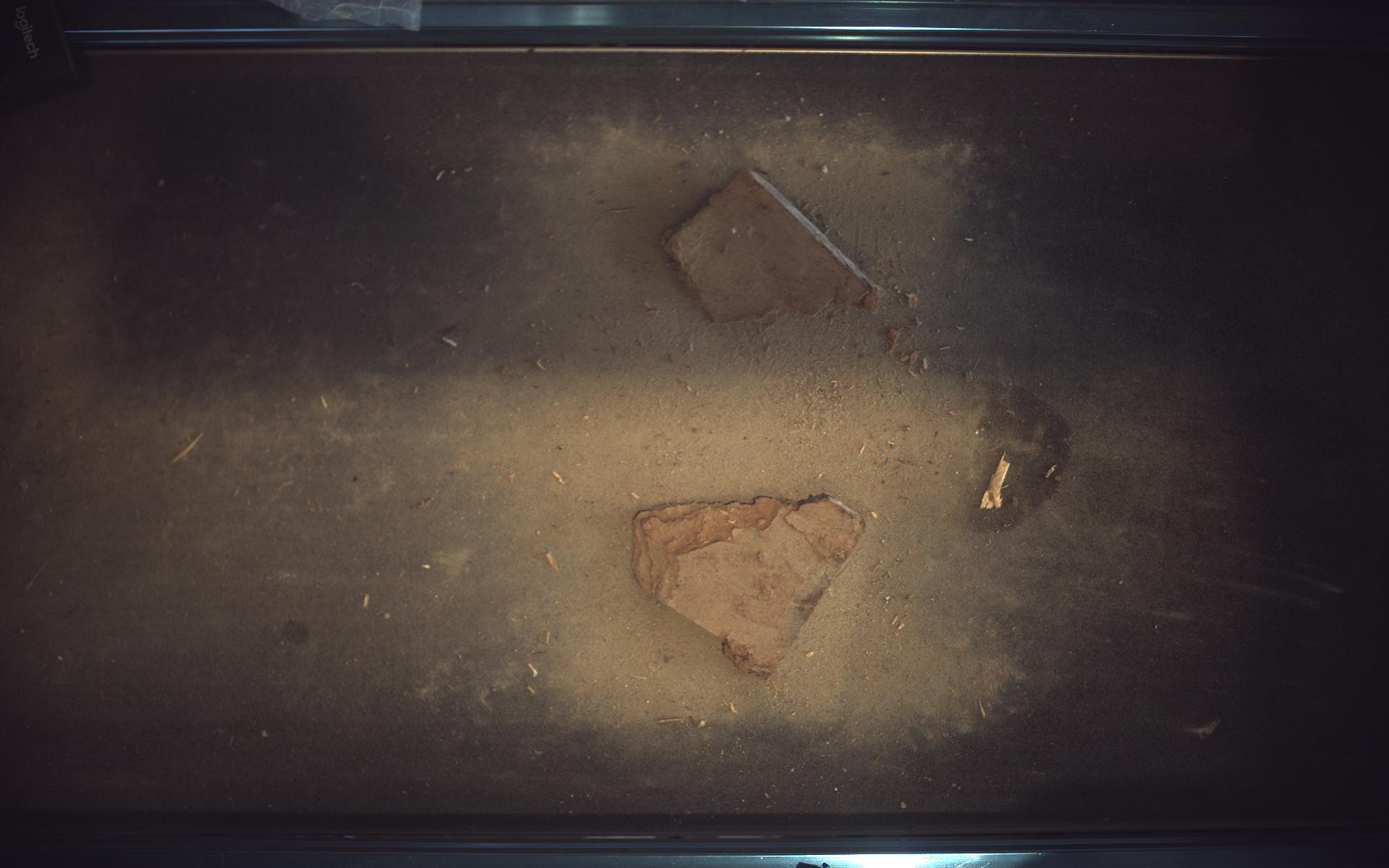wood: (634, 495, 866, 678), (665, 169, 886, 322)
